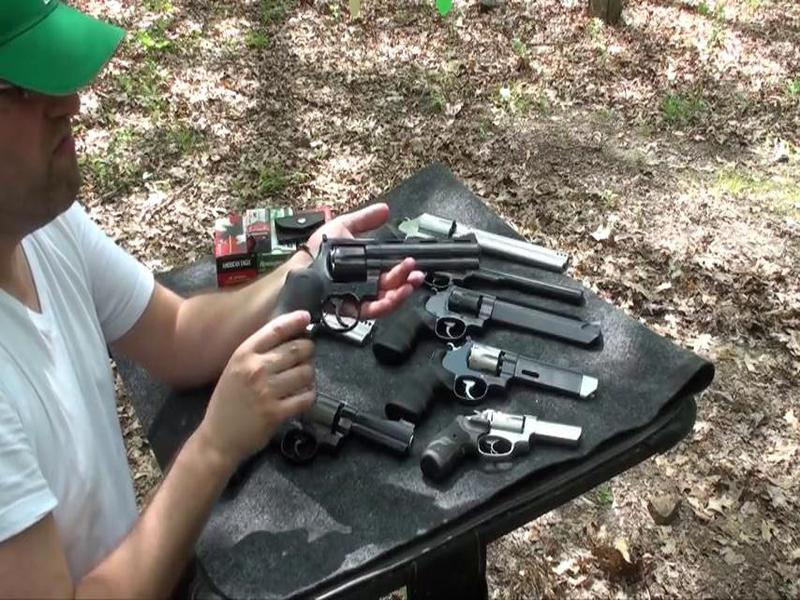Revolver: (261, 237, 526, 353)
